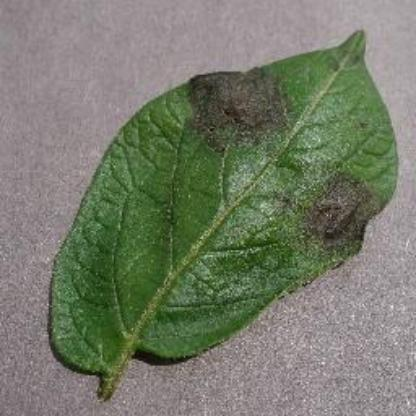Late-Blight: (49, 22, 402, 400)
